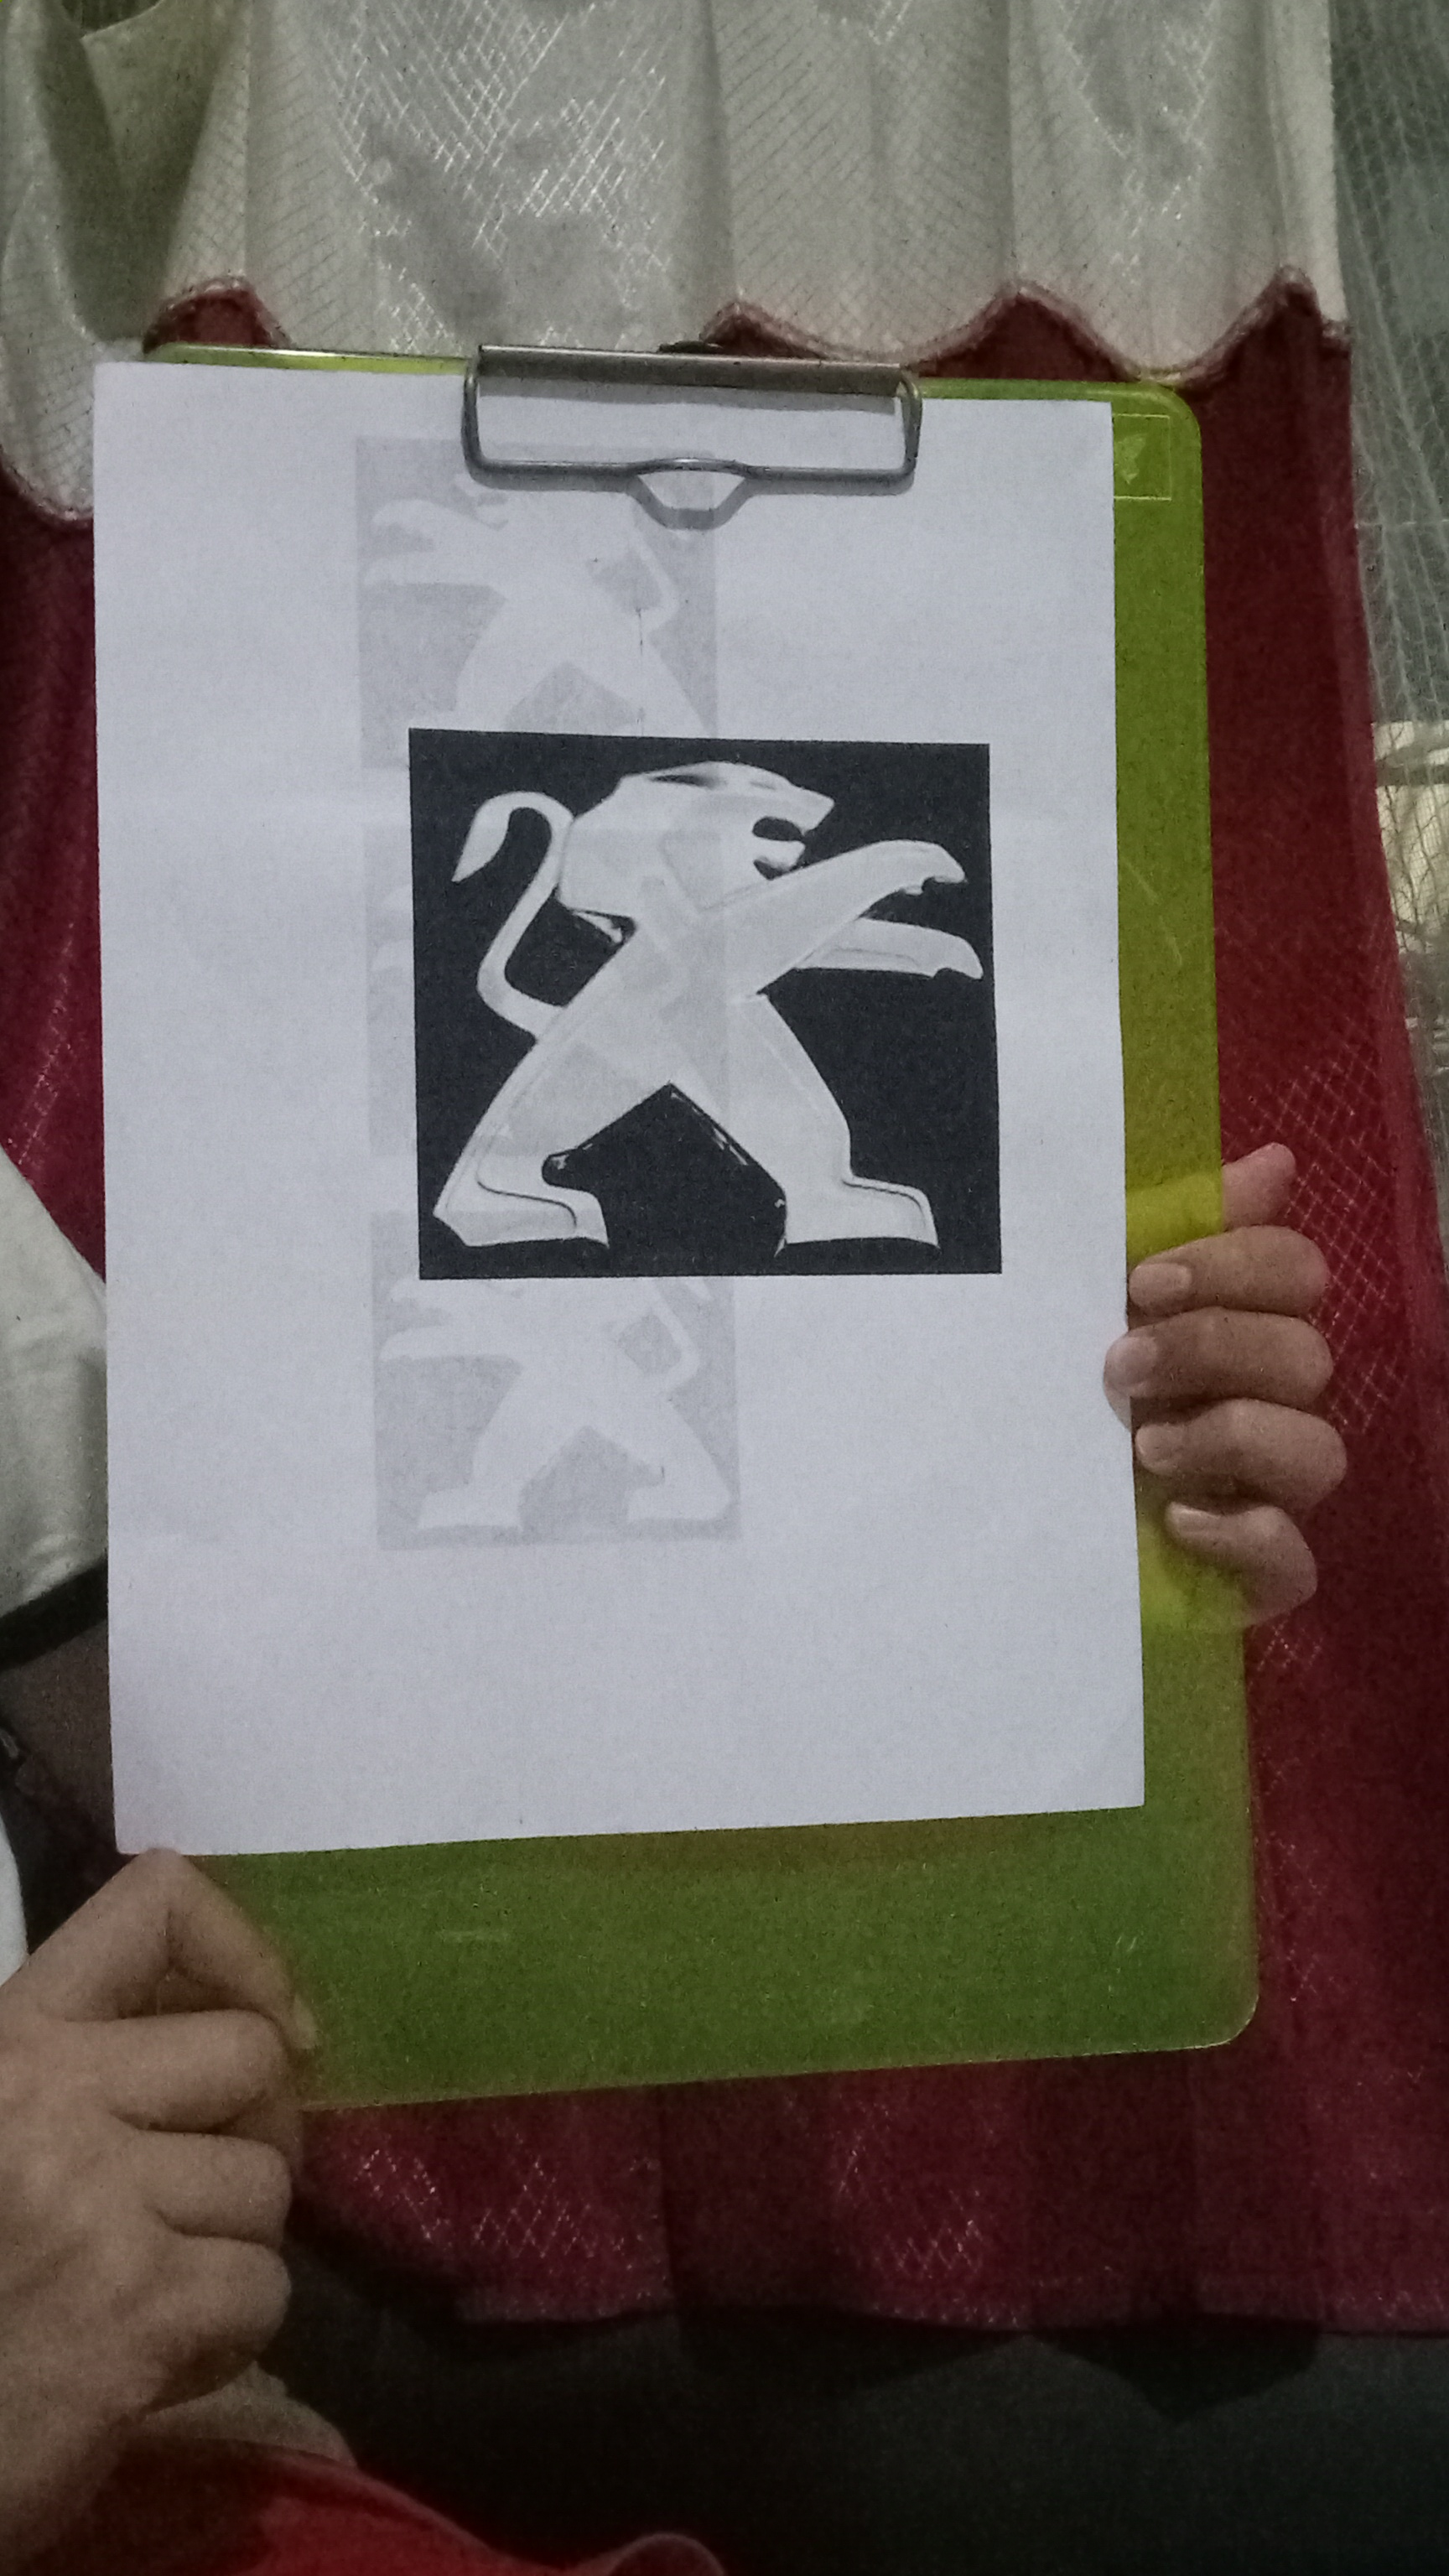Peugeot: (412, 740, 982, 1263)
